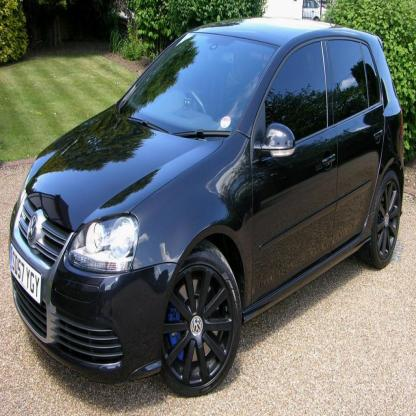Car: (10, 17, 406, 398)
